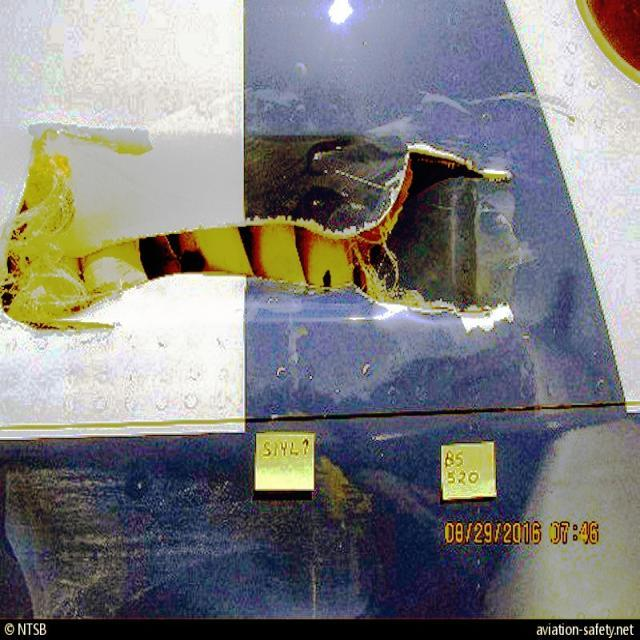crack: (397, 293, 510, 332)
